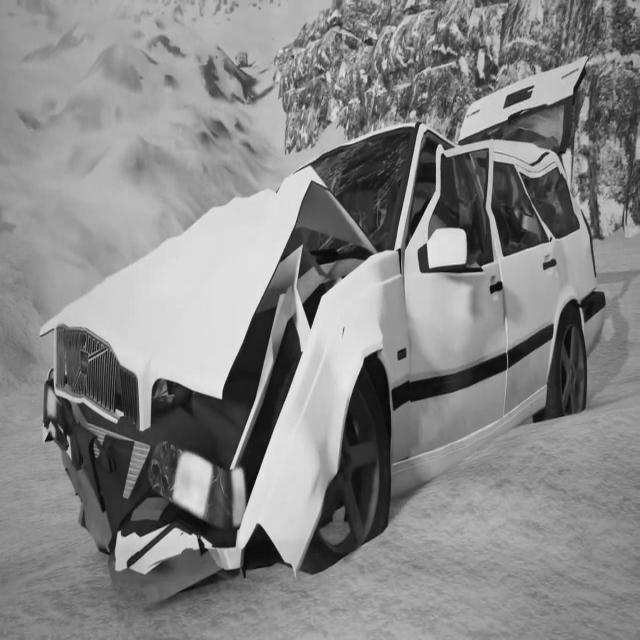vehicle: (29, 37, 620, 590)
